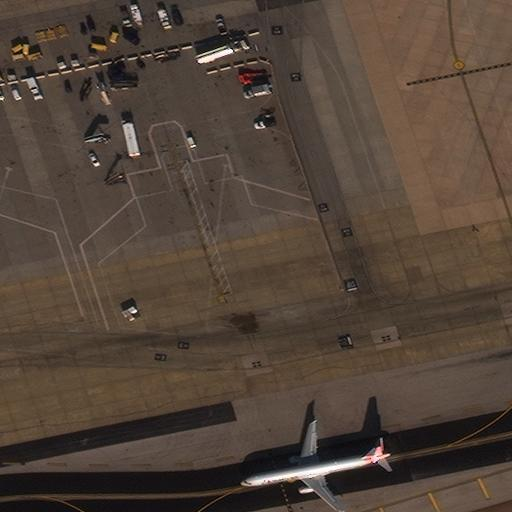Medium Civil Transport: (240, 424, 390, 511)
